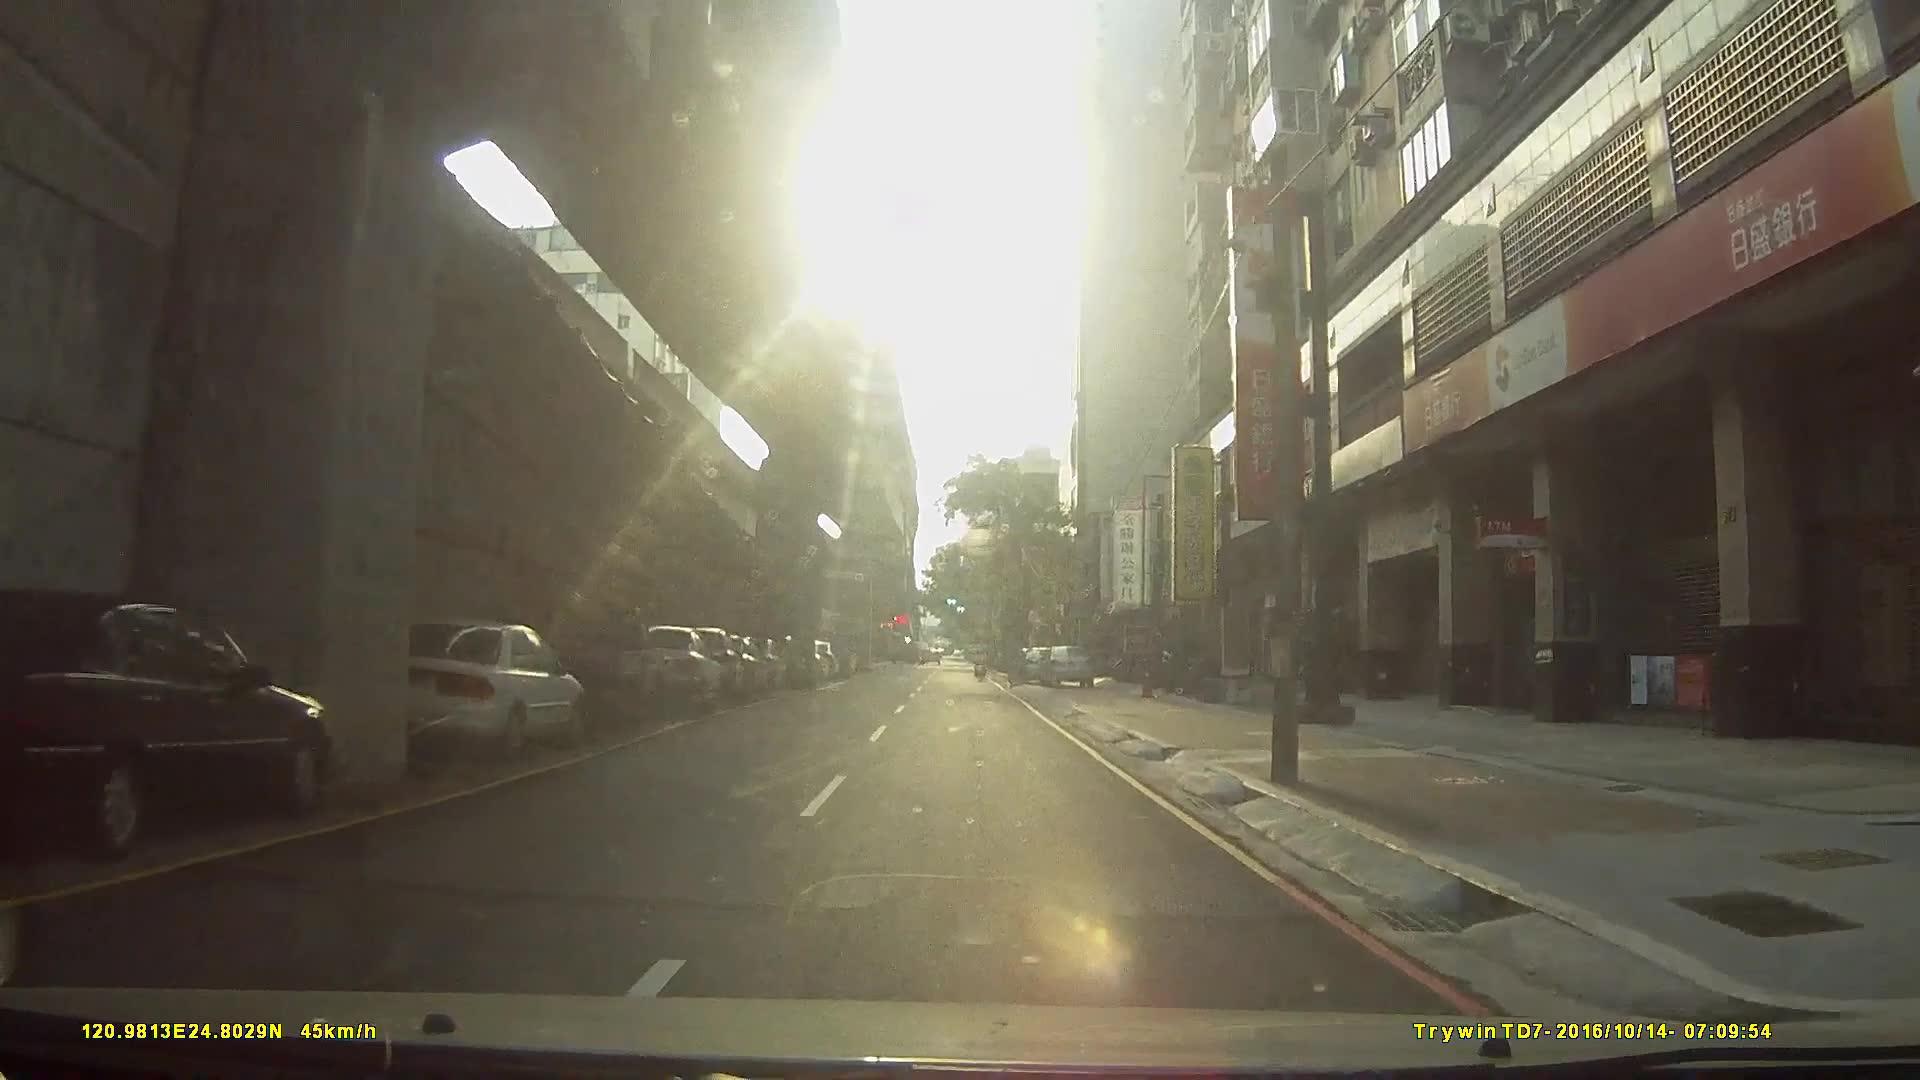vehicle: (0, 584, 330, 858), (367, 611, 582, 761), (495, 597, 662, 723), (611, 622, 727, 713), (659, 620, 794, 670), (1035, 642, 1095, 688)
